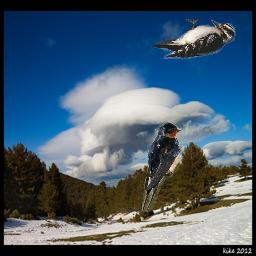Swallow: (140, 121, 182, 212)
Woodpecker: (150, 19, 240, 61)
